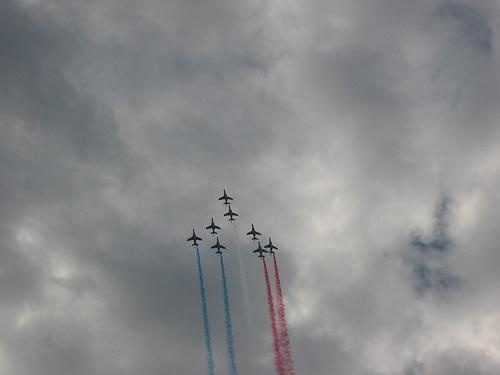aeroplane: (188, 229, 203, 250), (207, 219, 223, 238), (212, 238, 228, 256), (225, 206, 241, 223), (253, 243, 269, 259), (247, 227, 263, 243), (265, 238, 279, 255), (219, 191, 234, 206)
